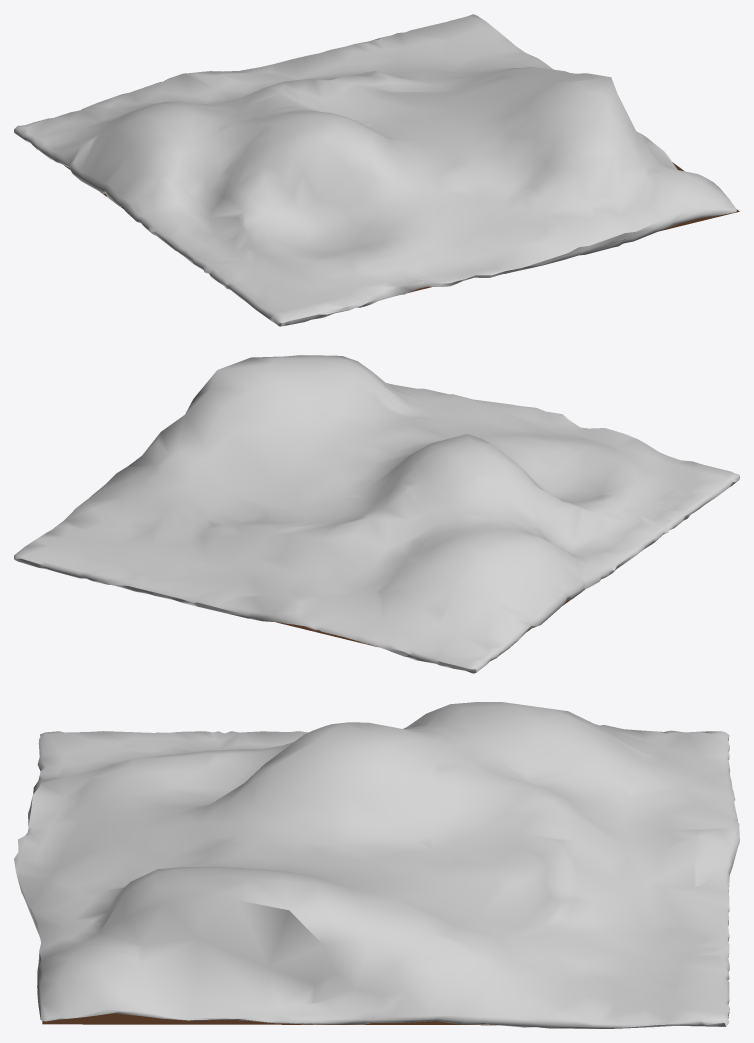
The model's file is GroundTileSnowy_5.fbx.
The picture shows the model from 3 angles, top to bottom: view 1: azimuth 30°, elevation 25°; view 2: azimuth 150°, elevation 25°; view 3: azimuth 270°, elevation 25°; orthographic projection. The views are drawn at different scales.
Parts seen in each view (by area): view 1: GroundTileSnowy_5; view 2: GroundTileSnowy_5; view 3: GroundTileSnowy_5.
Boxes of the visible parts, x1,y1,x2,y2 form: GroundTileSnowy_5: [14, 14, 739, 326]; GroundTileSnowy_5: [14, 355, 739, 673]; GroundTileSnowy_5: [14, 702, 739, 1028].
Size of the model in its own units: 1626 by 284 by 1698.
